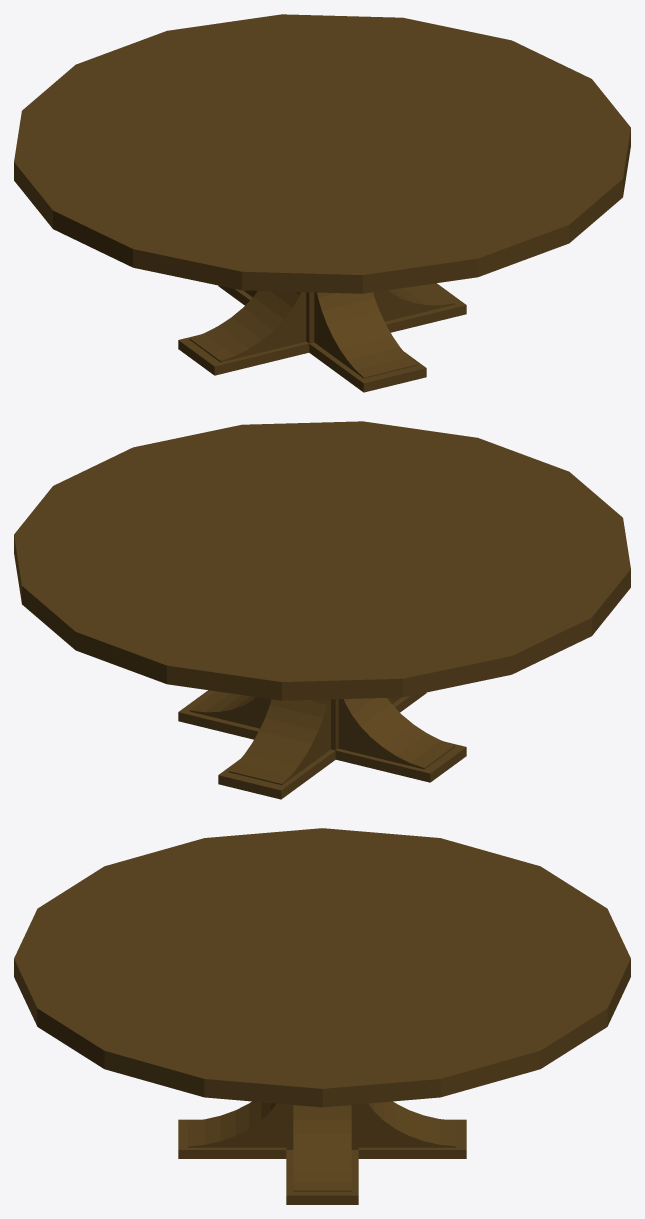
Rendered from TableRound.fbx.
3 renders of one model, top to bottom at view 1: azimuth 30°, elevation 25°; view 2: azimuth 150°, elevation 25°; view 3: azimuth 270°, elevation 25°, orthographic.
Visible parts, largest first — view 1: Circle, Cube; view 2: Circle, Cube; view 3: Circle, Cube.
Part boxes in pixels (<box>): Circle: <box>14,14,630,293</box>; Cube: <box>178,283,466,392</box>; Circle: <box>14,421,630,700</box>; Cube: <box>178,690,466,799</box>; Circle: <box>14,828,630,1107</box>; Cube: <box>178,1101,466,1204</box>.
Bounding box in the file's own units: 1218 × 404 × 1218.
